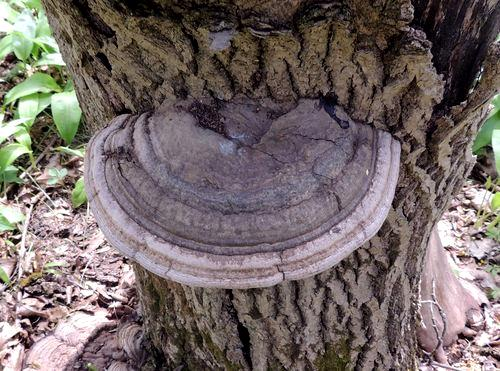Ganoderma - Fruit Body: (71, 87, 414, 297)
